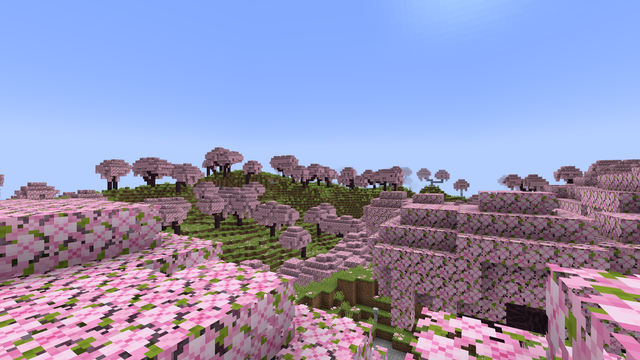squelettes: (371, 306, 378, 328)
